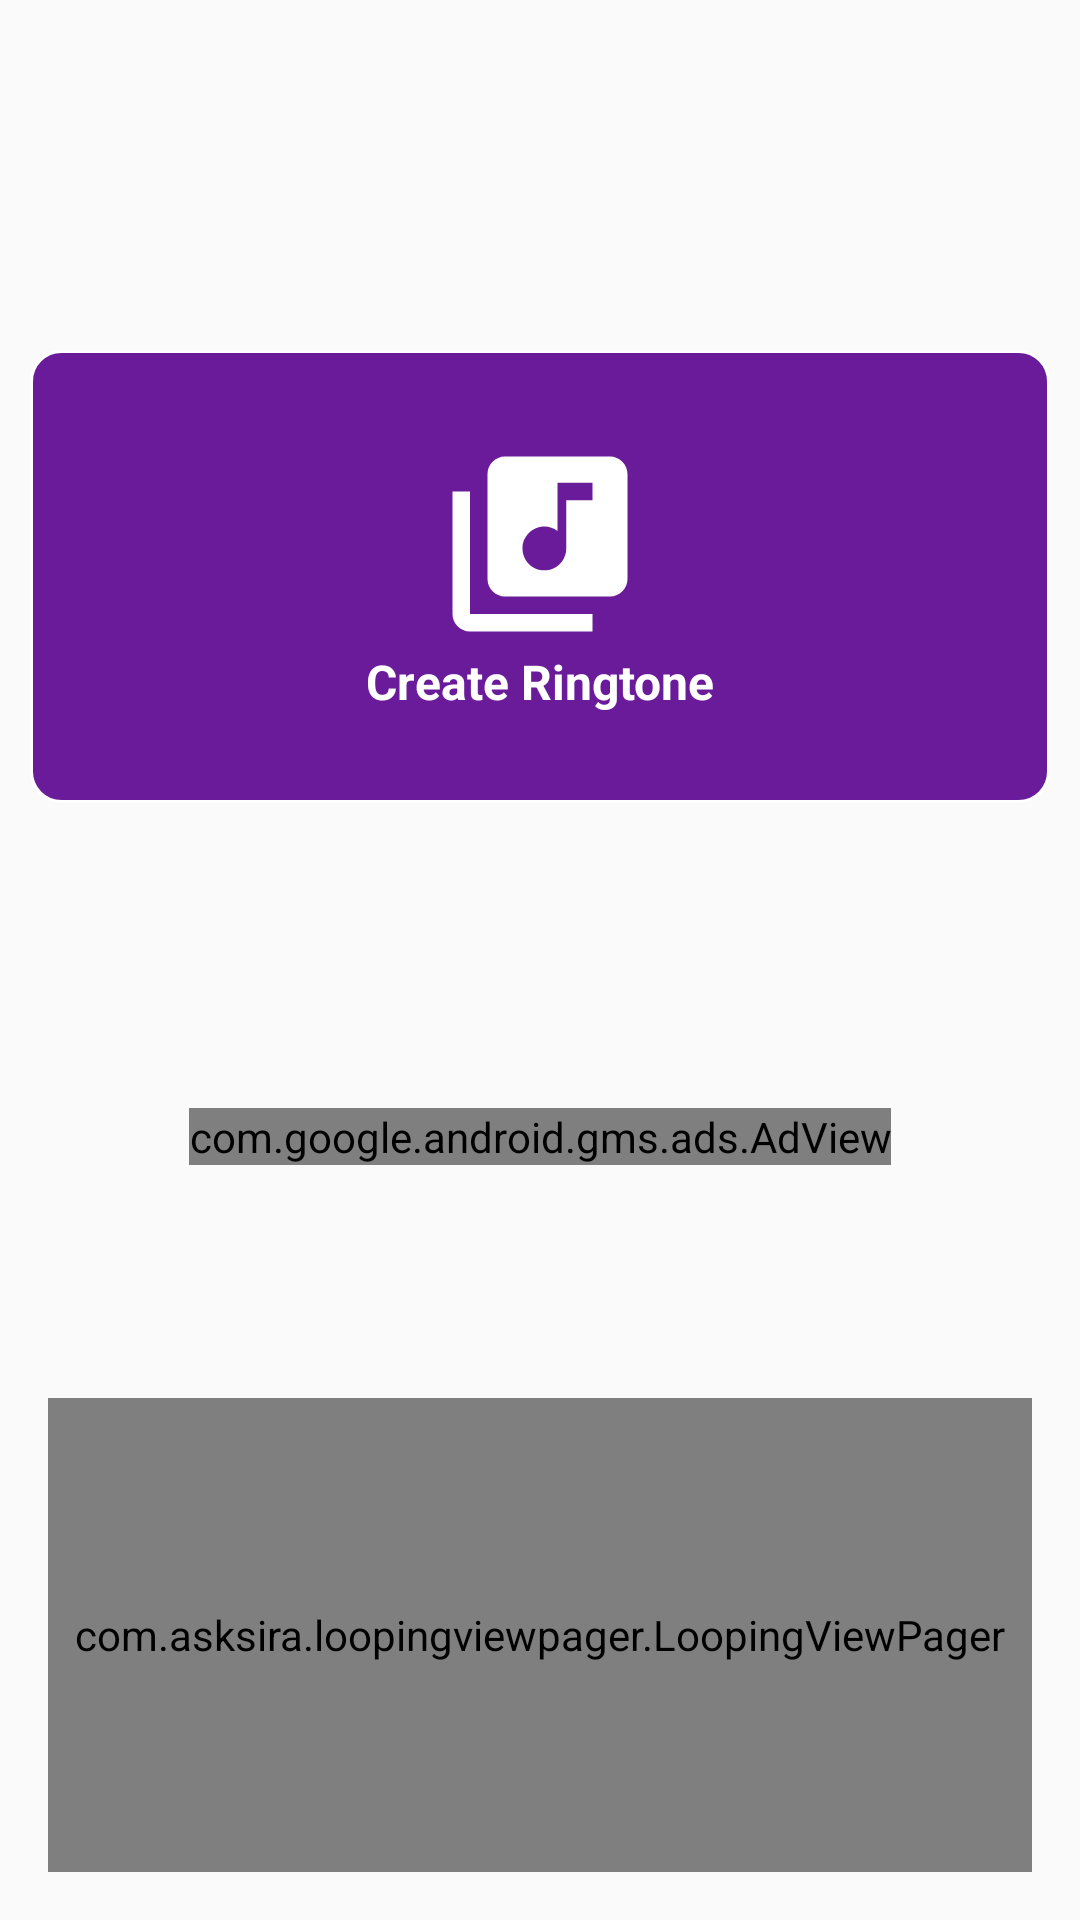

Screen size 1080 × 1920. Icon name, then its center in pixels as [x,y]:
library music: [540,544]
